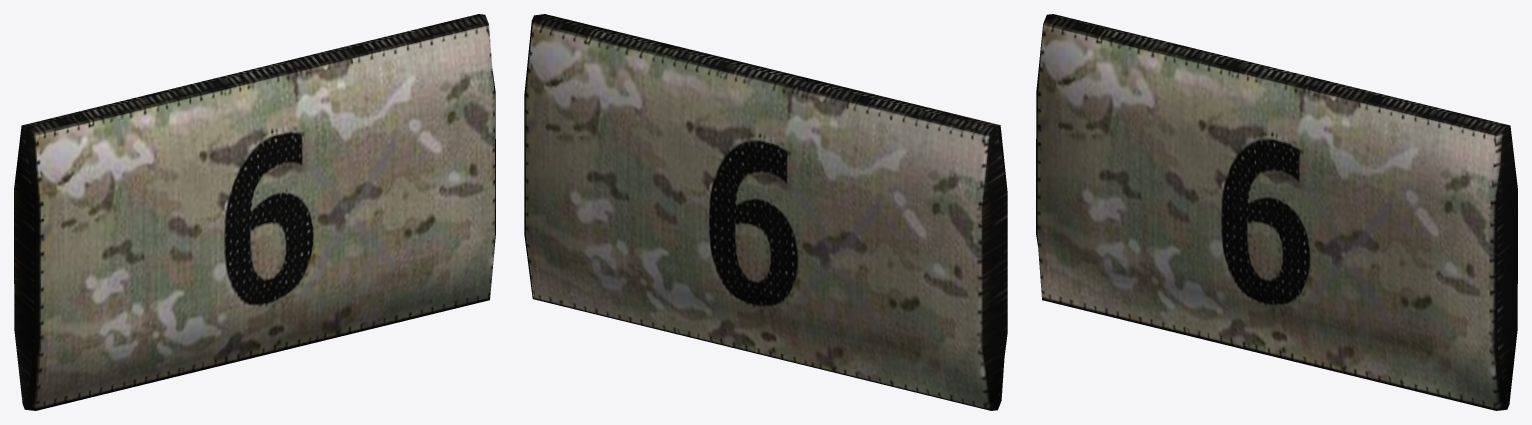
File: Havoc6.fbx
The picture shows the model from 3 angles, left to right: view 1: azimuth 30°, elevation 25°; view 2: azimuth 150°, elevation 25°; view 3: azimuth 330°, elevation 25°; orthographic projection.
Visible parts, largest first — view 1: FlagPatch; view 2: FlagPatch; view 3: FlagPatch.
Part boxes in pixels (x1=…): FlagPatch: x1=14, y1=14, x2=495, y2=410; FlagPatch: x1=524, y1=14, x2=1007, y2=410; FlagPatch: x1=1036, y1=14, x2=1517, y2=410.
Bounding box in the file's own units: 9.23 × 5.38 × 0.9201.
